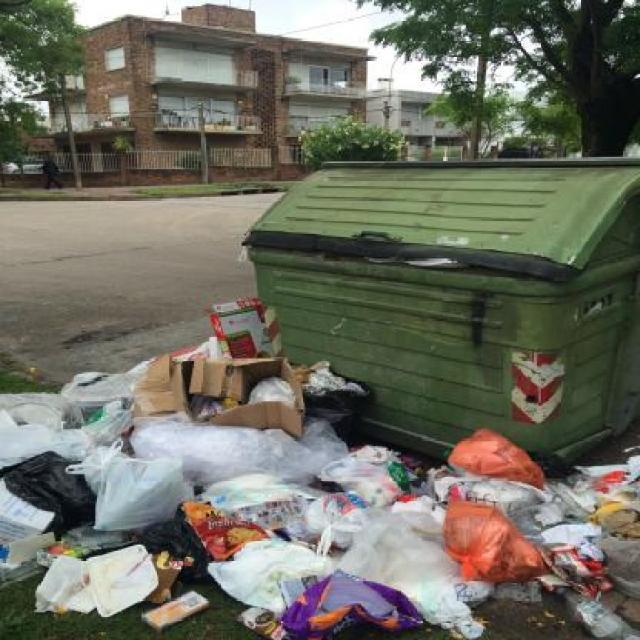garbage: (8, 340, 301, 626), (265, 449, 636, 616)
